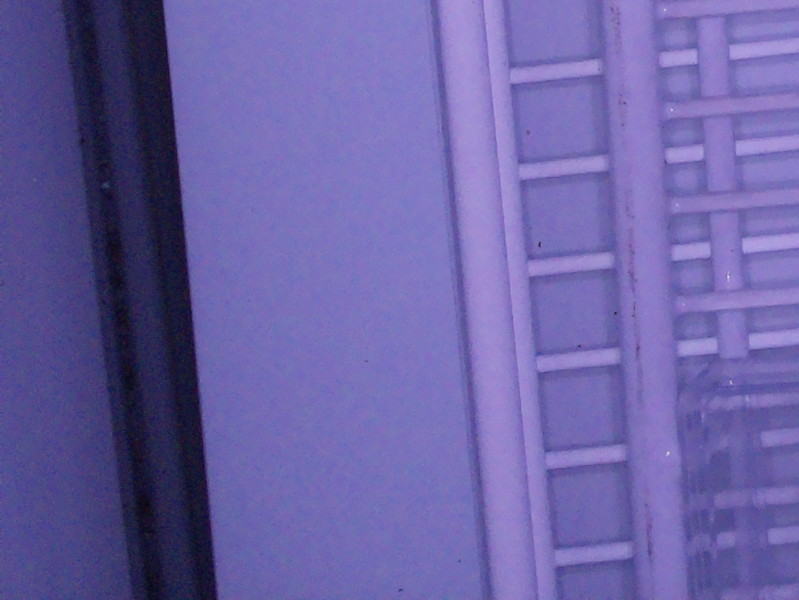plate: (676, 349, 799, 600)
